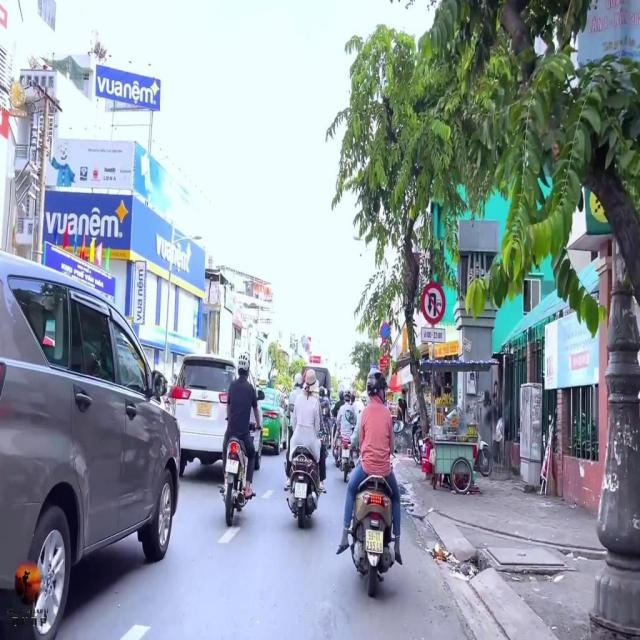cam_do_xe: (381, 322, 390, 339)
cam_o_to_quay_dau_xe: (421, 283, 445, 324)
khac: (422, 327, 445, 343)
